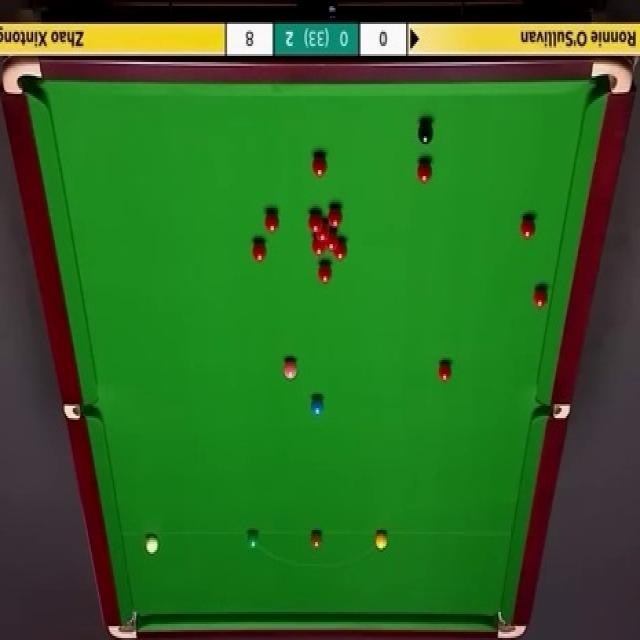black-ball: (417, 117, 433, 144)
blue-ball: (310, 395, 324, 418)
brown-ball: (310, 530, 322, 552)
green-ball: (247, 529, 260, 548)
pink-ball: (283, 359, 297, 380)
red-ball: (250, 235, 268, 263), (262, 208, 280, 235), (532, 283, 548, 310), (520, 215, 536, 242), (312, 153, 327, 179), (416, 160, 432, 184), (328, 204, 343, 229), (318, 260, 332, 284), (334, 238, 348, 262), (308, 211, 322, 234), (438, 362, 452, 383), (325, 232, 338, 251), (312, 236, 324, 256), (316, 223, 329, 241)
white-ball: (144, 532, 160, 558)
yellow-ball: (375, 529, 388, 550)
